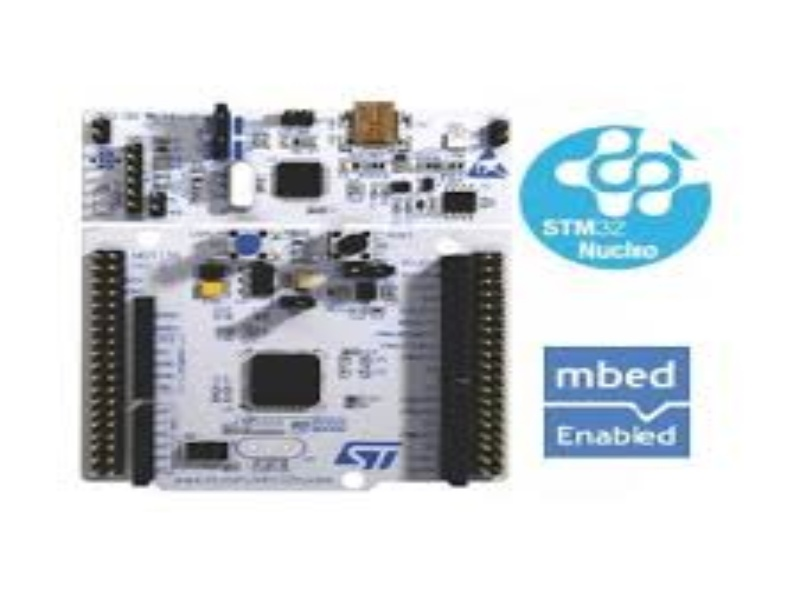stmnucleo: (59, 85, 514, 499)
